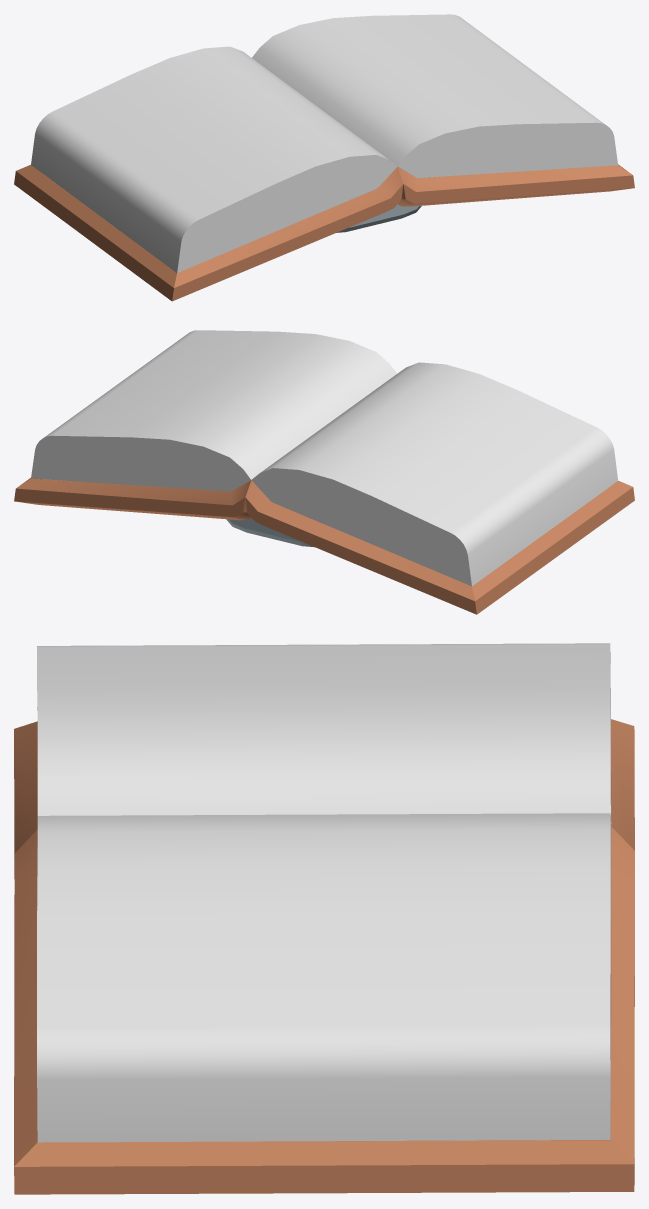
Rendered from Book.gltf.
3 views of the same model, one above another, from view 1: azimuth 30°, elevation 25°; view 2: azimuth 150°, elevation 25°; view 3: azimuth 270°, elevation 25° (orthographic). The views are drawn at different scales.
Parts seen in each view (by area): view 1: bookOpenB; view 2: bookOpenB; view 3: bookOpenB.
Part boxes in pixels (x1=…): bookOpenB: x1=14, y1=14, x2=634, y2=301; bookOpenB: x1=14, y1=330, x2=634, y2=614; bookOpenB: x1=14, y1=643, x2=634, y2=1194.
Bounding box in the file's own units: 0.7032 × 0.1569 × 0.4167.
